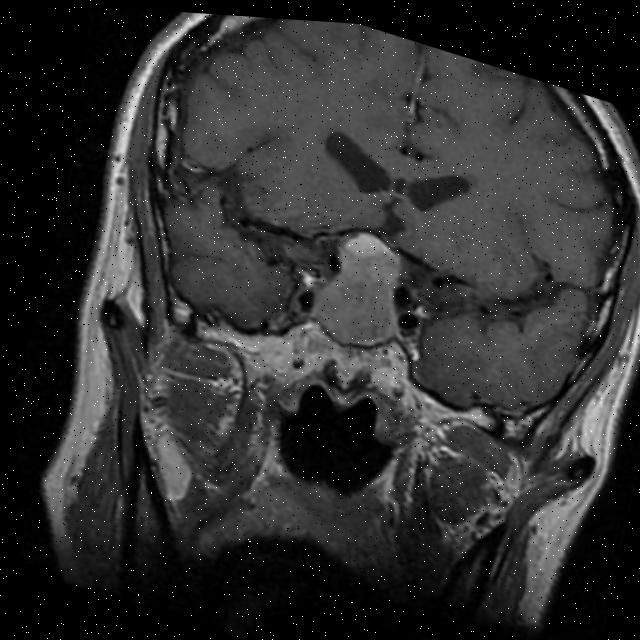Pituitary: (300, 217, 420, 363)
